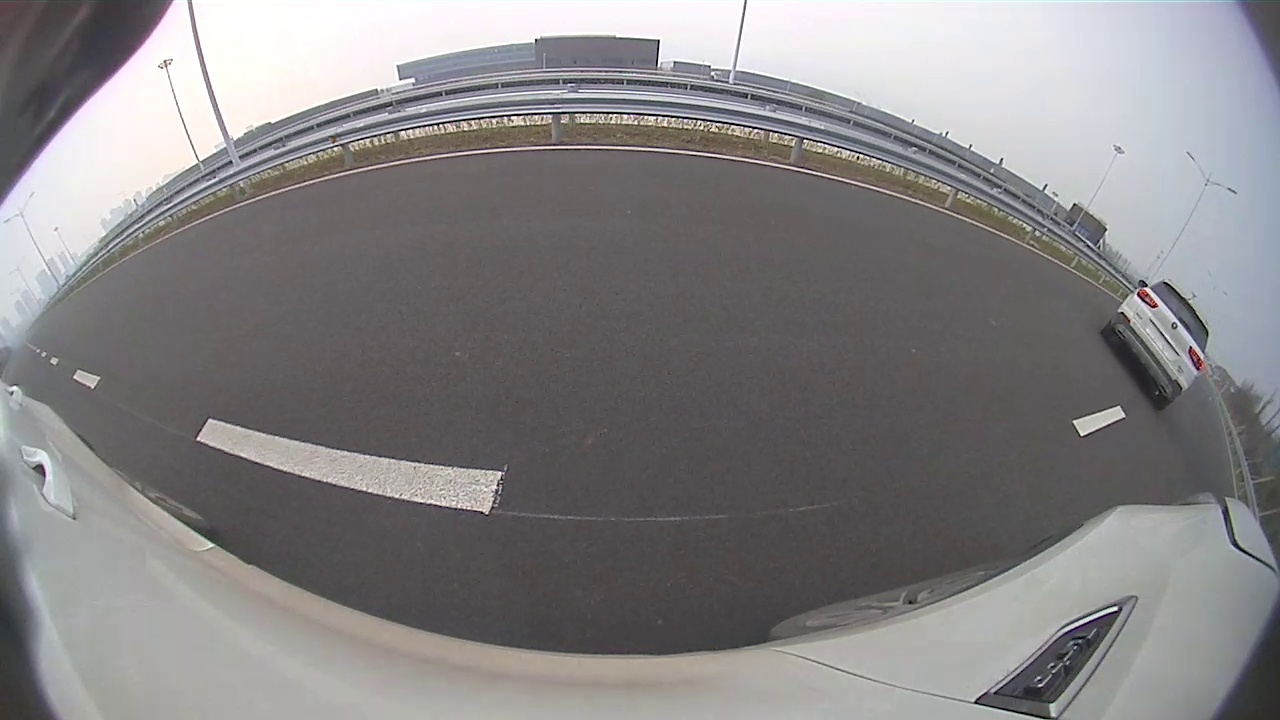car: (1101, 278, 1210, 410)
